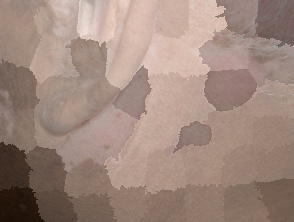vitiligo: (43, 45, 194, 196), (0, 78, 31, 155)
